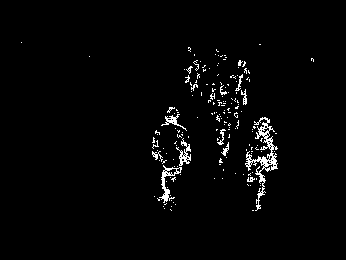person: (149, 105, 193, 203), (244, 117, 278, 212), (212, 83, 240, 166)
